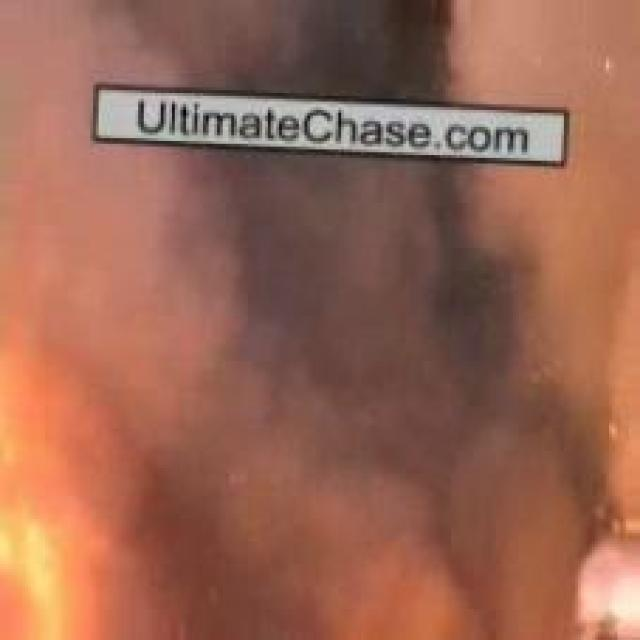smoke: (26, 10, 624, 602)
